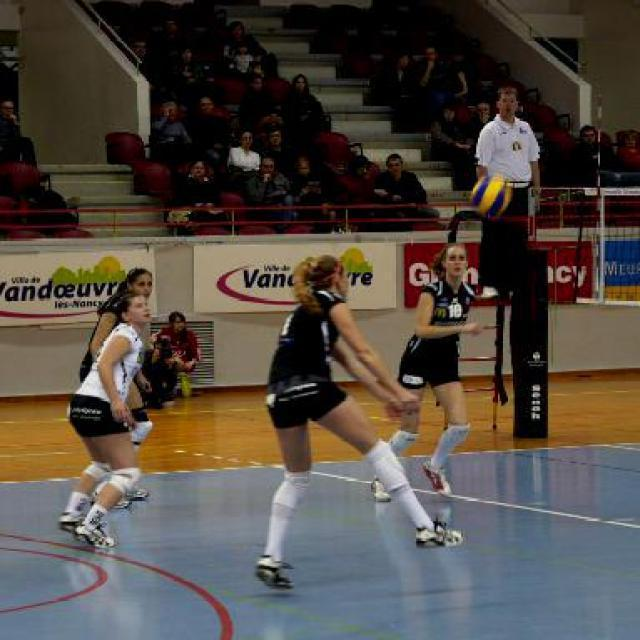volleyball: (472, 175, 511, 218)
